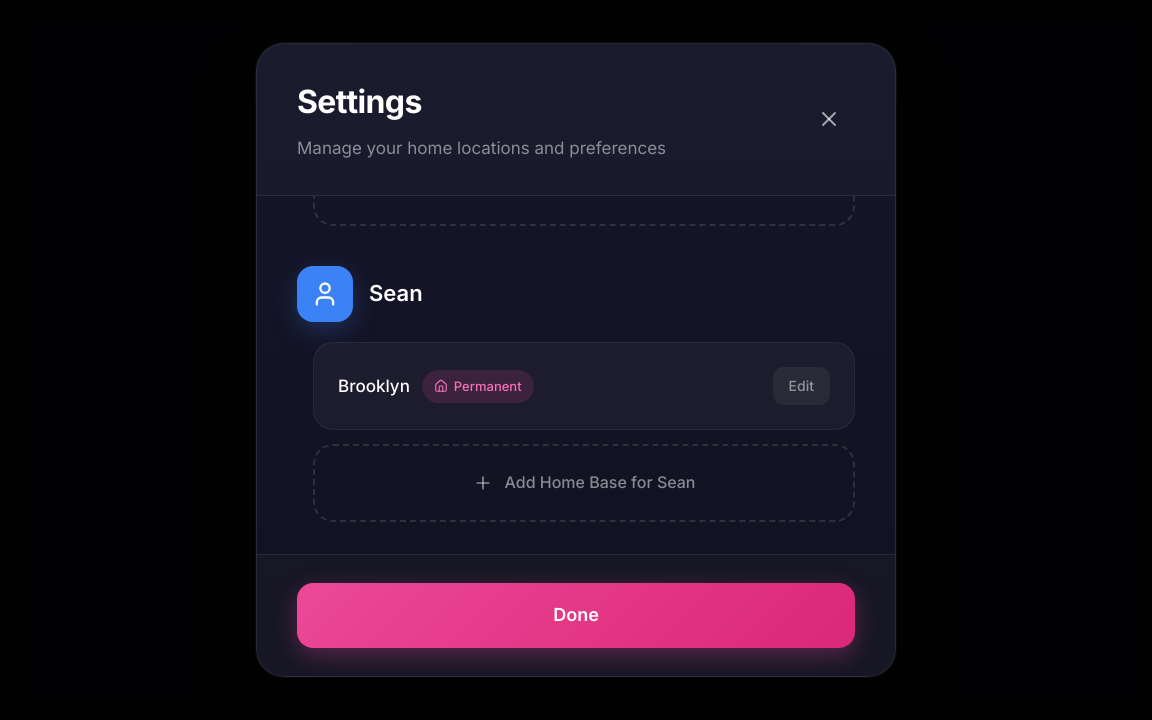
it: SettingsModal component › should allow editing a home base city
(page scrolled)
Note: Click on Brooklyn to edit (it opens the edit form)
What coordinates should you click on to do the following:
click the text "Brooklyn"
I would click on:
 (374, 386)
Its box is [338,372,410,400].
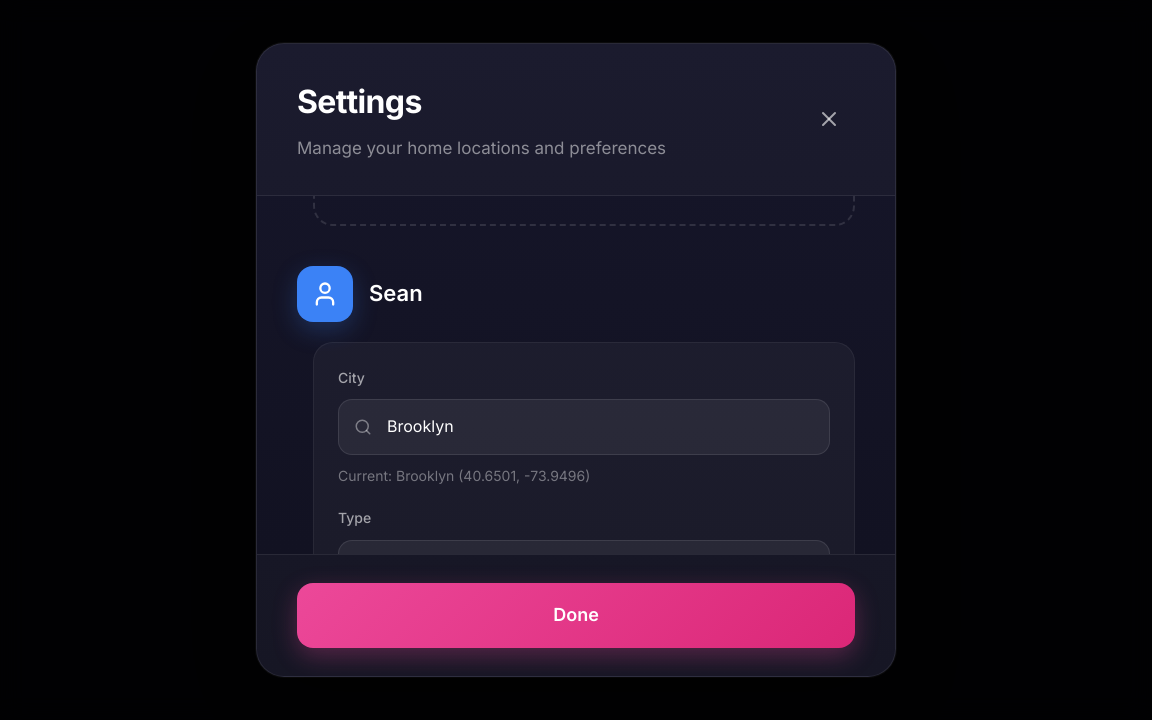
Result: the text "Current: Brooklyn (40.6501, -73.9496)" is shown at [338,467,590,484]
